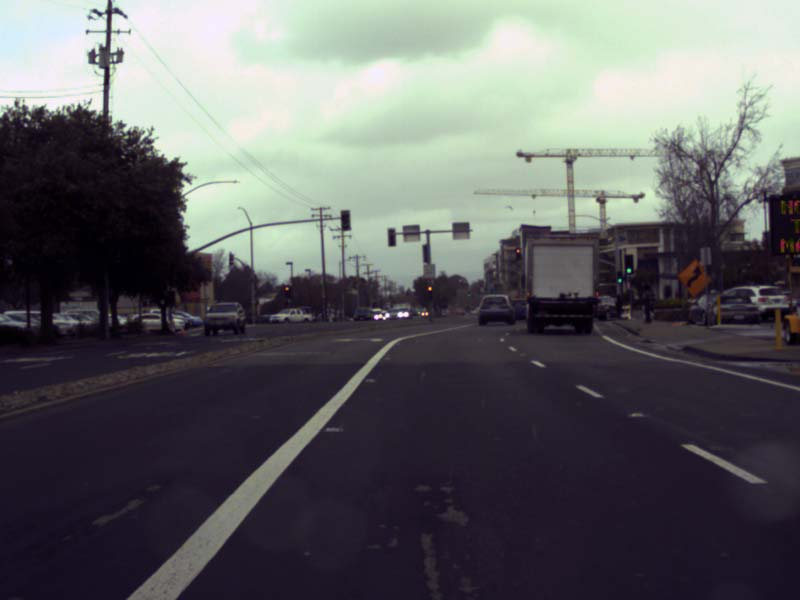Green: (624, 254, 633, 274), (616, 271, 622, 283)
Red: (426, 285, 432, 300), (284, 285, 290, 296), (516, 248, 520, 259)
